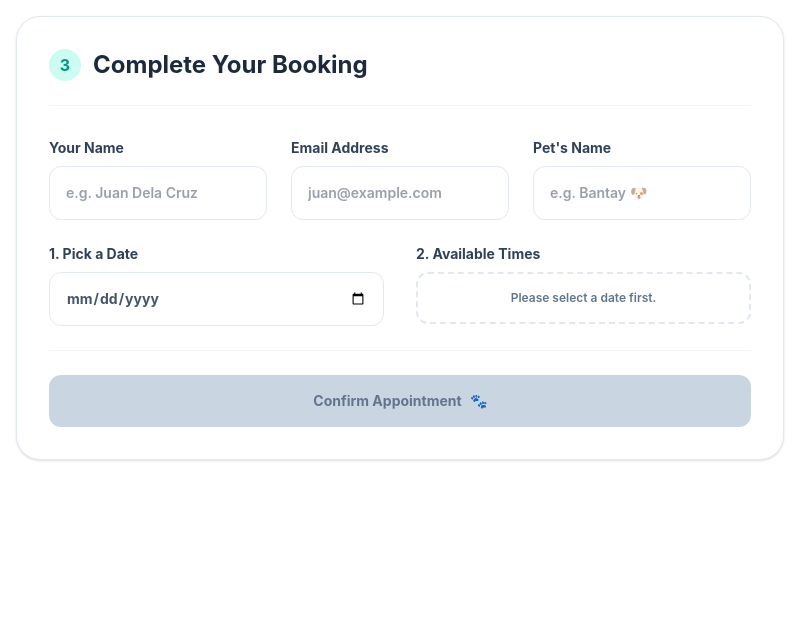
Test: BookingForm Logic & Workflow Automation › renders confirmation panel layout screen when client parameters pass validations cleanly
The width and height of the screenshot is (801, 628).
Type "2026-08-15" into the date field at (216, 299), box top-left (49, 272), bottom-right (384, 326)
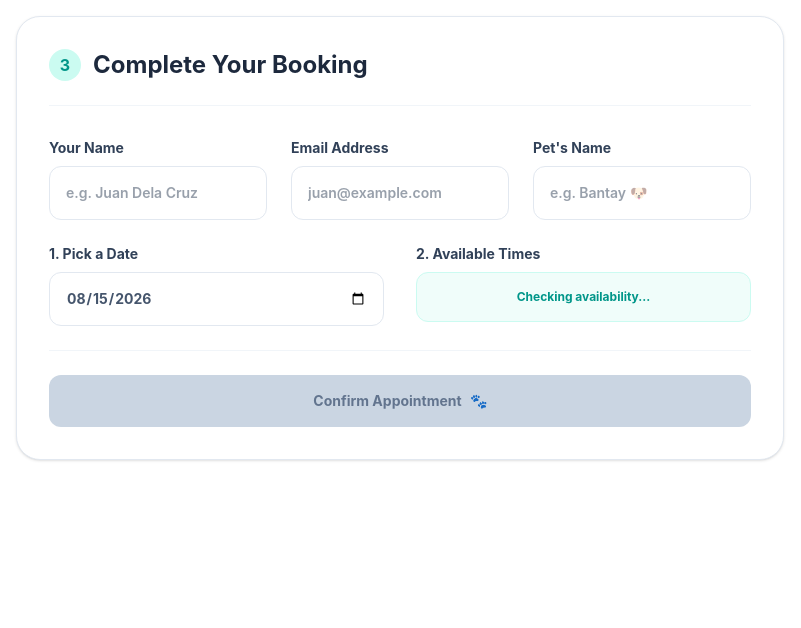
Type "Princess Jade" into the field with placeholder "e.g. Juan Dela Cruz" at (158, 193), box top-left (49, 166), bottom-right (267, 220)
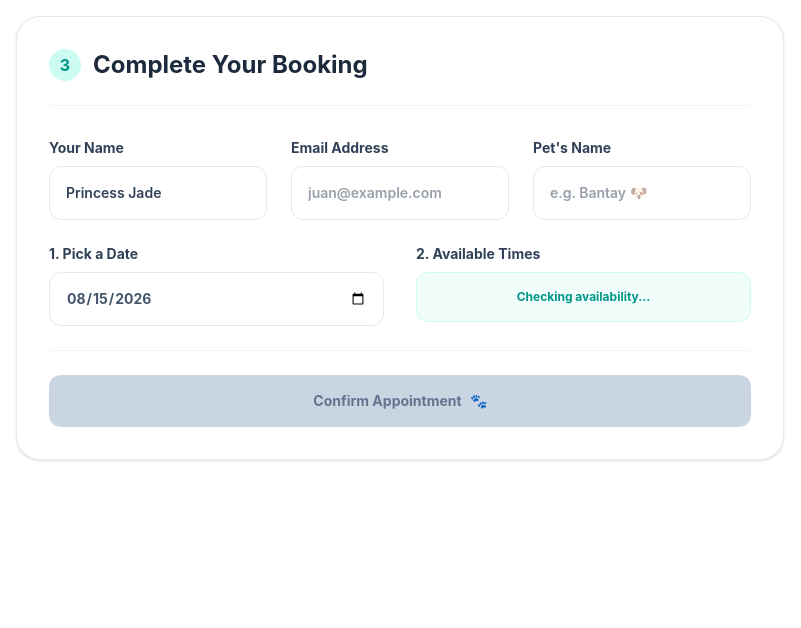
Type "princess@example.com" into the field with placeholder "juan@example.com" at (400, 193), box top-left (291, 166), bottom-right (509, 220)
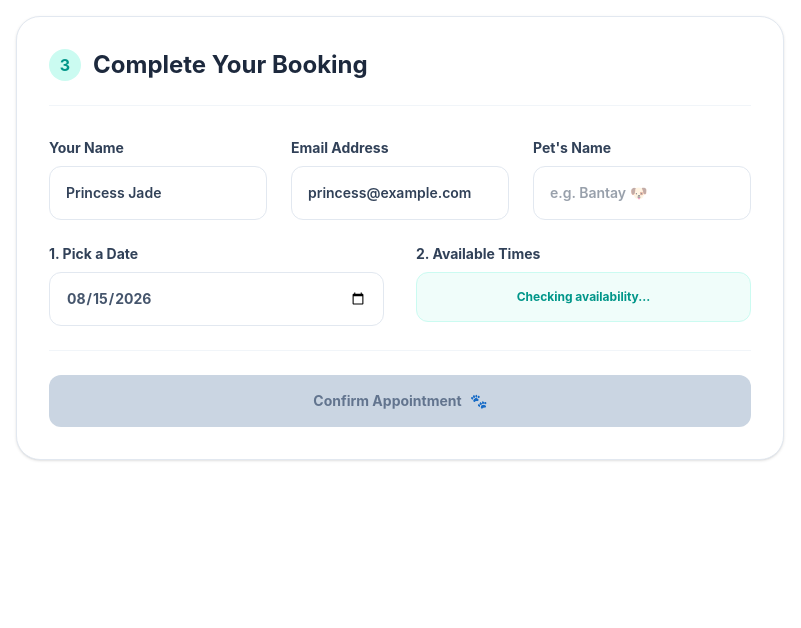
Type "Sam" into the field with placeholder "e.g. Bantay 🐶" at (642, 193), box top-left (533, 166), bottom-right (751, 220)
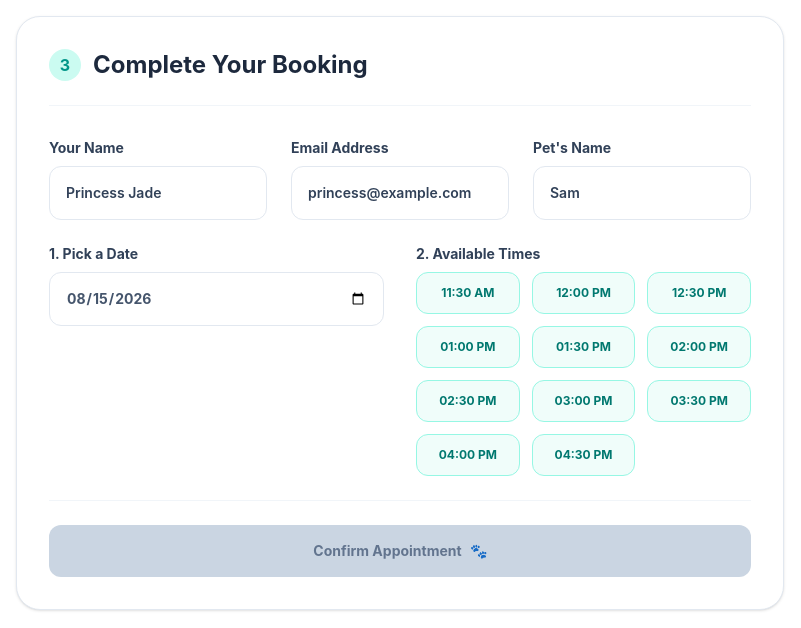
Click the button "02:00 PM" at (699, 347), box top-left (647, 326), bottom-right (751, 368)
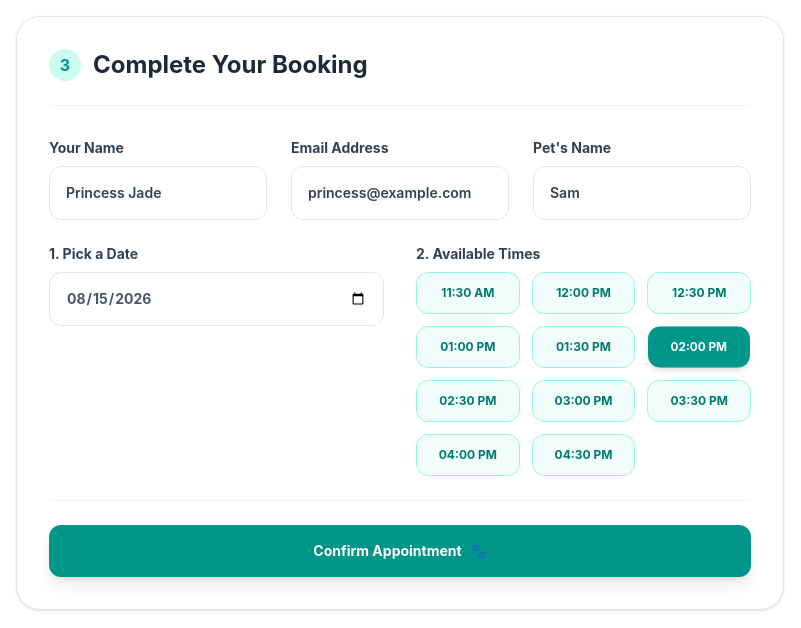
Click the button "Confirm Appointment 🐾" at (400, 551), box top-left (49, 525), bottom-right (751, 577)
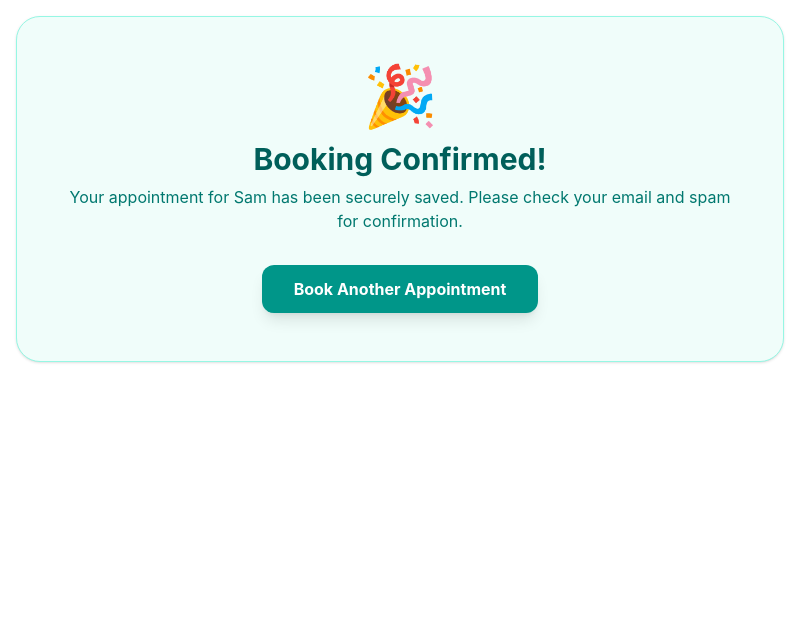
expect the heading "Booking Confirmed!" is shown: met, box top-left (253, 141), bottom-right (547, 177)
